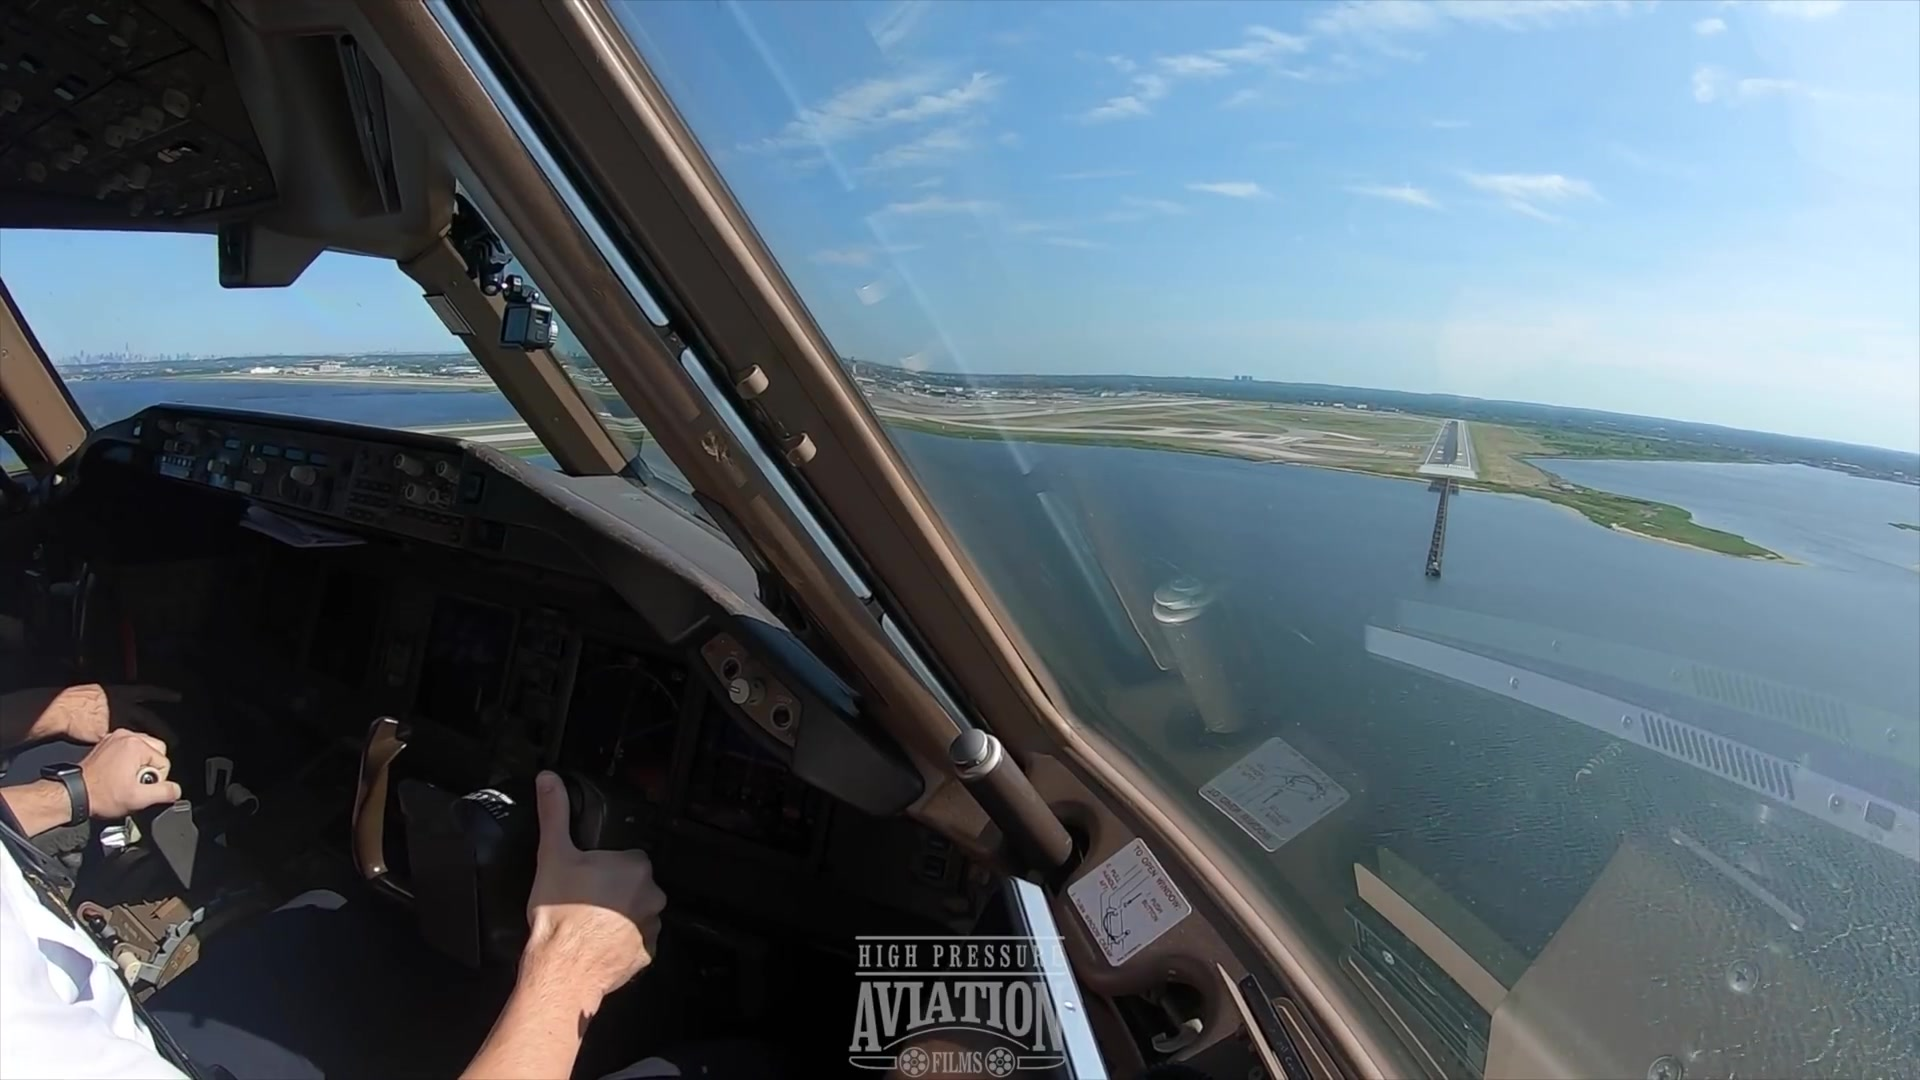runway: (1422, 417, 1476, 471)
